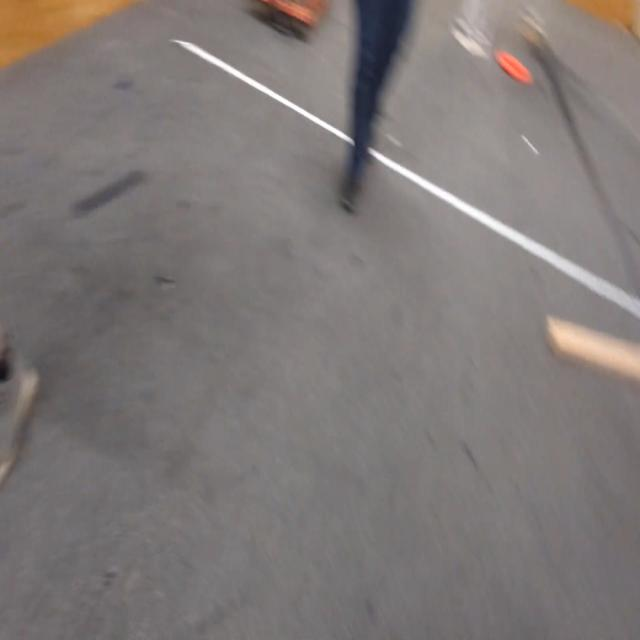note: (493, 51, 532, 84)
